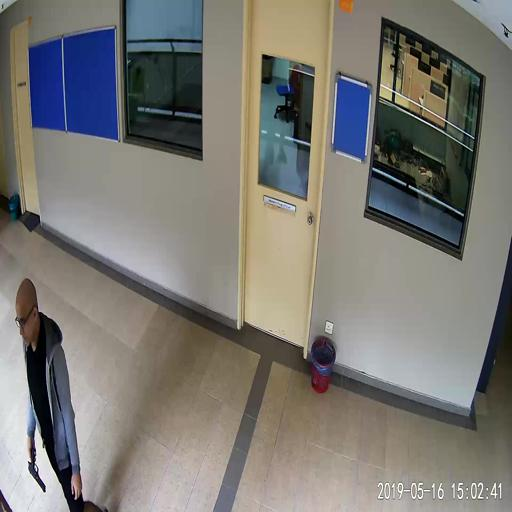pistol: (28, 446, 45, 489)
